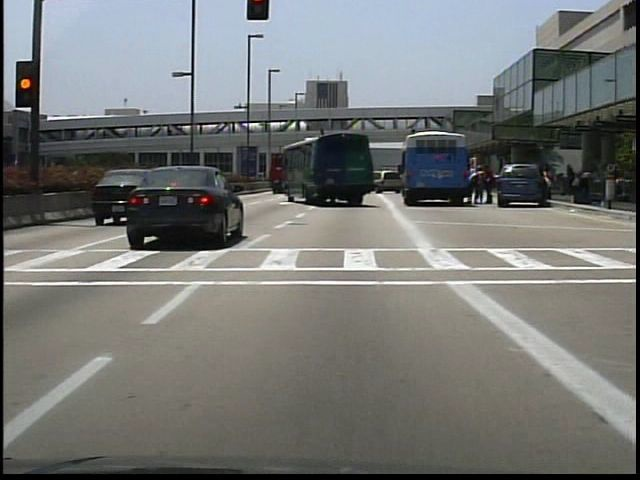person: (468, 162, 483, 205), (481, 164, 494, 208), (541, 167, 555, 206)
